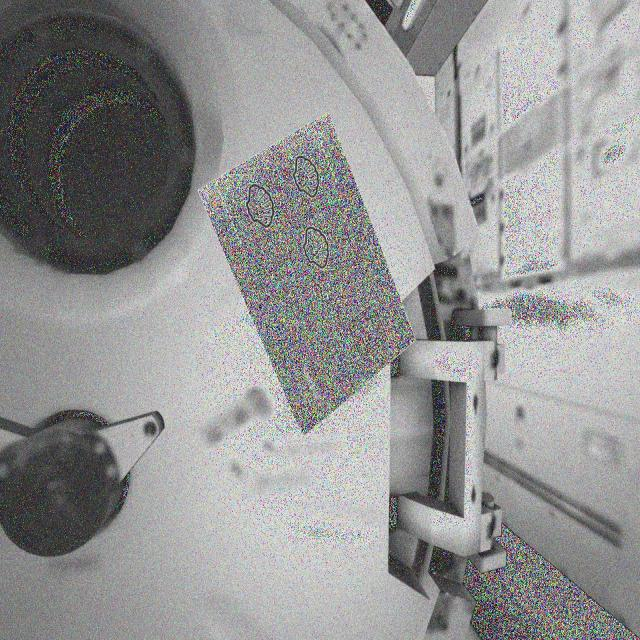shell: (241, 180, 284, 233), (299, 221, 337, 276), (291, 152, 326, 206)
